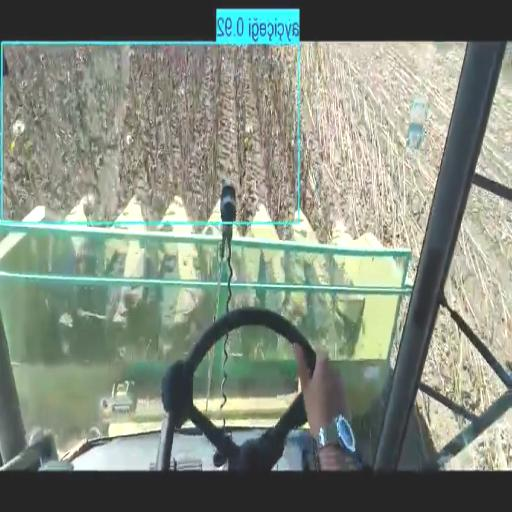ayc: (4, 47, 296, 223)
